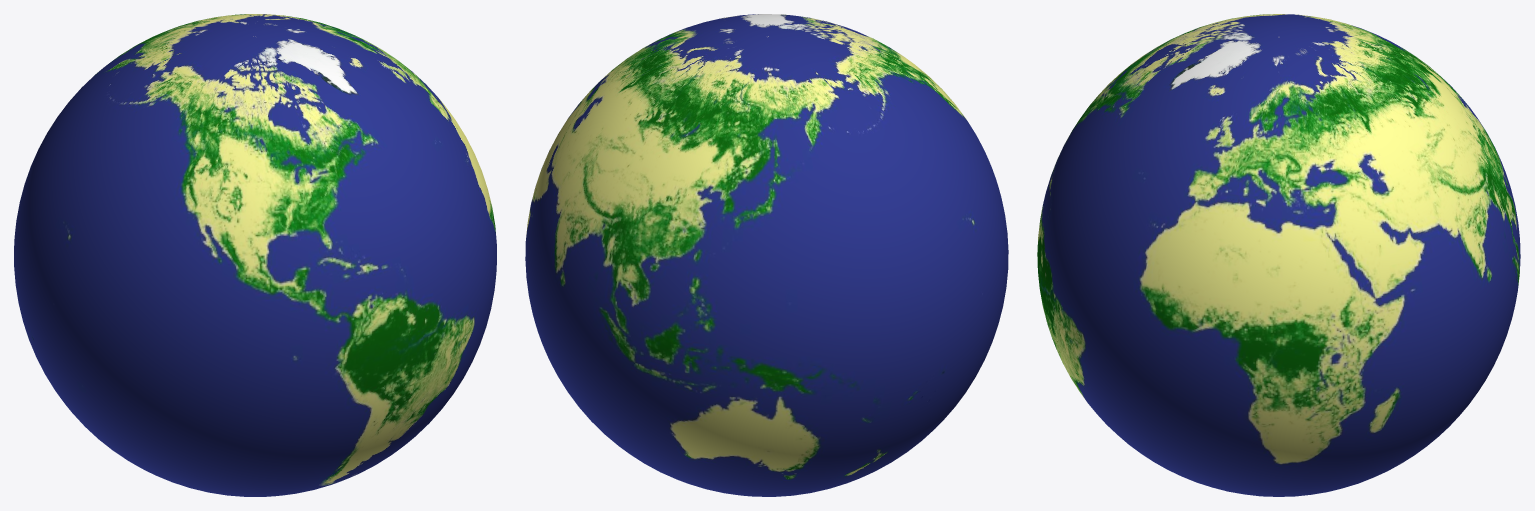
3 views of the same model, side by side, from view 1: azimuth 30°, elevation 25°; view 2: azimuth 150°, elevation 25°; view 3: azimuth 270°, elevation 25° (orthographic).
Visible parts, largest first — view 1: Tierra.002; view 2: Tierra.002; view 3: Tierra.002.
Part boxes in pixels (x1=…): Tierra.002: x1=14, y1=14, x2=496, y2=496; Tierra.002: x1=525, y1=14, x2=1008, y2=496; Tierra.002: x1=1037, y1=14, x2=1520, y2=496.
Bounding box in the file's own units: 28.34 × 28.35 × 28.34.
1 material, 1 textured.
